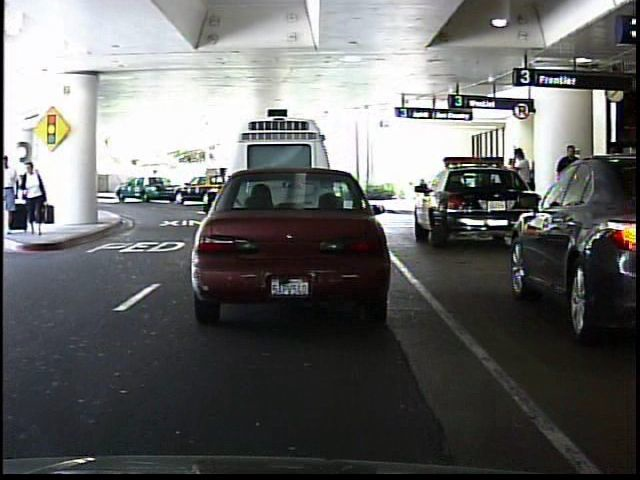person: (551, 142, 588, 228), (509, 142, 540, 231), (17, 155, 49, 238), (3, 153, 20, 235), (147, 164, 166, 198)
